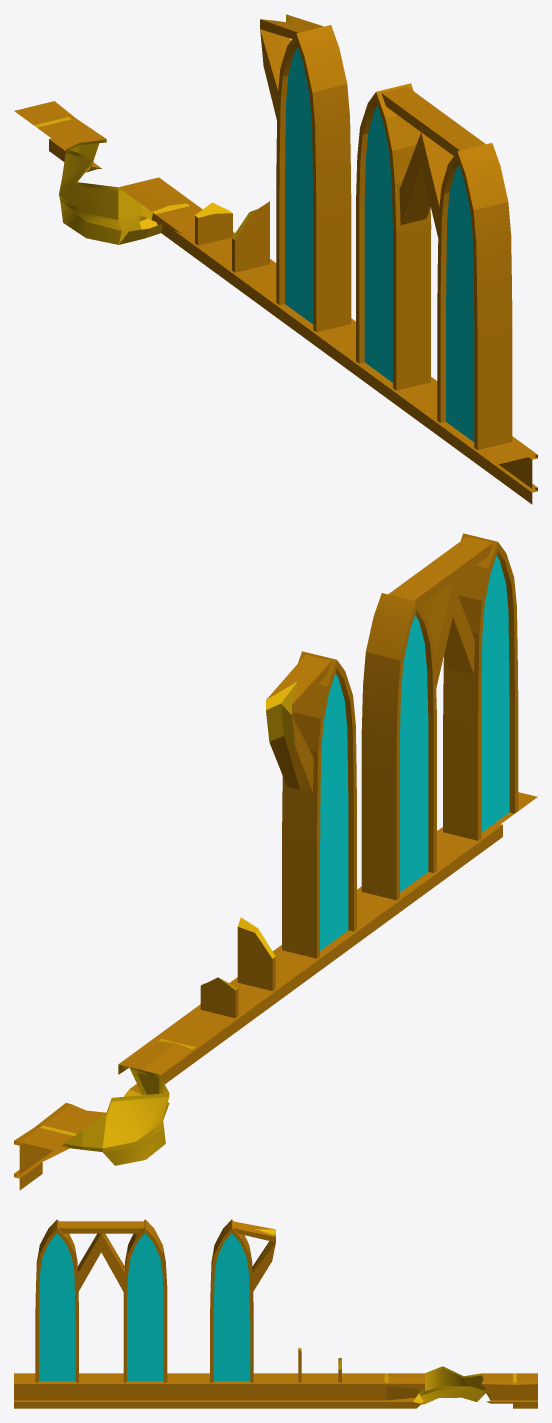
File: Mesh_Railing_Broken_a01.fbx
3 renders of one model, top to bottom at view 1: azimuth 30°, elevation 25°; view 2: azimuth 150°, elevation 25°; view 3: azimuth 270°, elevation 25°, orthographic. The views are drawn at different scales.
Parts seen in each view (by area): view 1: Mesh_Railing_Wear_a01; view 2: Mesh_Railing_Wear_a01; view 3: Mesh_Railing_Wear_a01.
Part boxes in pixels (x1,y1,x2,y2): Mesh_Railing_Wear_a01: (14, 14, 537, 504); Mesh_Railing_Wear_a01: (14, 533, 537, 1190); Mesh_Railing_Wear_a01: (14, 1219, 537, 1408).
Bounding box in the file's own units: 1.94 × 9.36 × 24.
